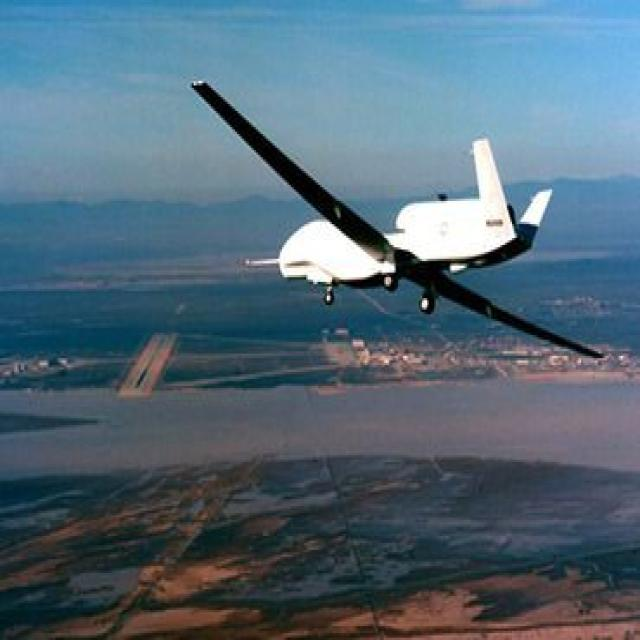iha: (189, 75, 605, 360)
